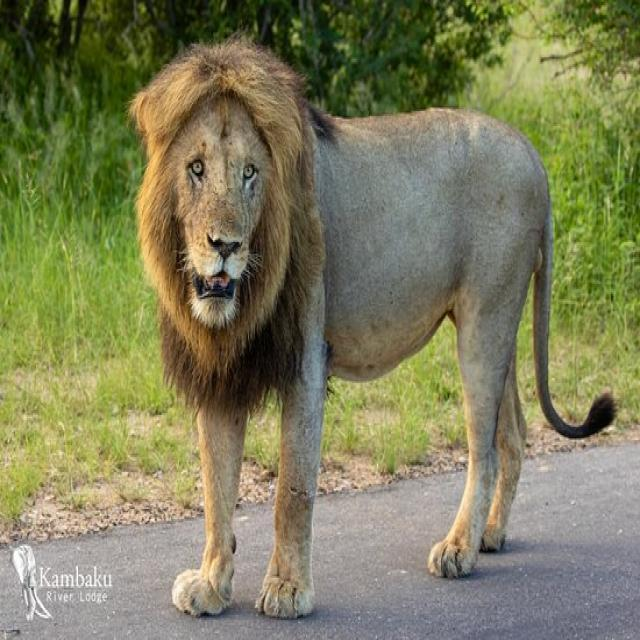lions: (97, 67, 640, 640)
